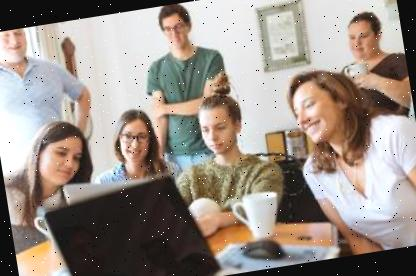person: (280, 52, 416, 259), (161, 70, 295, 232), (0, 111, 108, 261), (0, 18, 99, 146), (126, 0, 235, 116), (82, 92, 187, 212), (331, 0, 414, 120)
